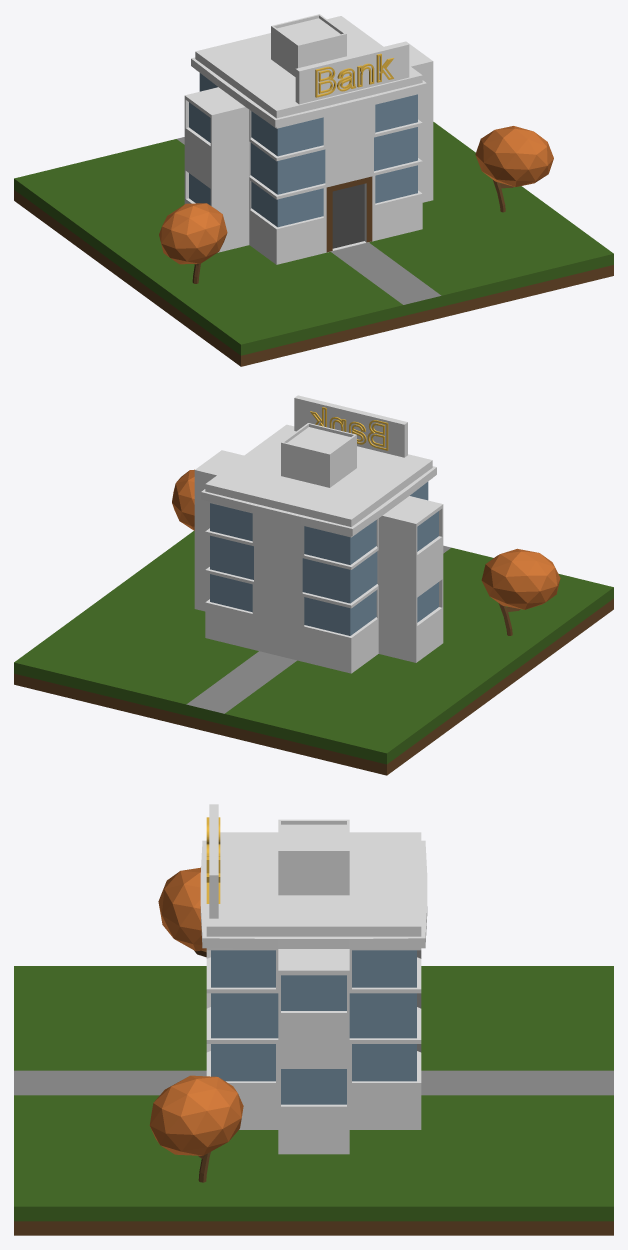
The model's file is 251d2786-8f2f-4aed-95ea-b68d535a7eed.glb.
3 views of the same model, one above another, from view 1: azimuth 30°, elevation 25°; view 2: azimuth 150°, elevation 25°; view 3: azimuth 270°, elevation 25° (orthographic). The views are drawn at different scales.
Visible parts, largest first — view 1: Box001, GeoSphere001, GeoSphere002; view 2: Box001, GeoSphere002, GeoSphere001; view 3: Box001, GeoSphere001, GeoSphere002.
Part boxes in pixels (bbox=[...]): Box001: bbox=[14, 14, 613, 366]; GeoSphere001: bbox=[475, 126, 553, 212]; GeoSphere002: bbox=[159, 203, 227, 283]; Box001: bbox=[14, 395, 613, 775]; GeoSphere002: bbox=[481, 548, 560, 635]; GeoSphere001: bbox=[172, 469, 194, 530]; Box001: bbox=[14, 804, 613, 1235]; GeoSphere001: bbox=[149, 1075, 243, 1182]; GeoSphere002: bbox=[158, 867, 206, 957].
Bounding box in the file's own units: 137 × 71.78 × 140.
